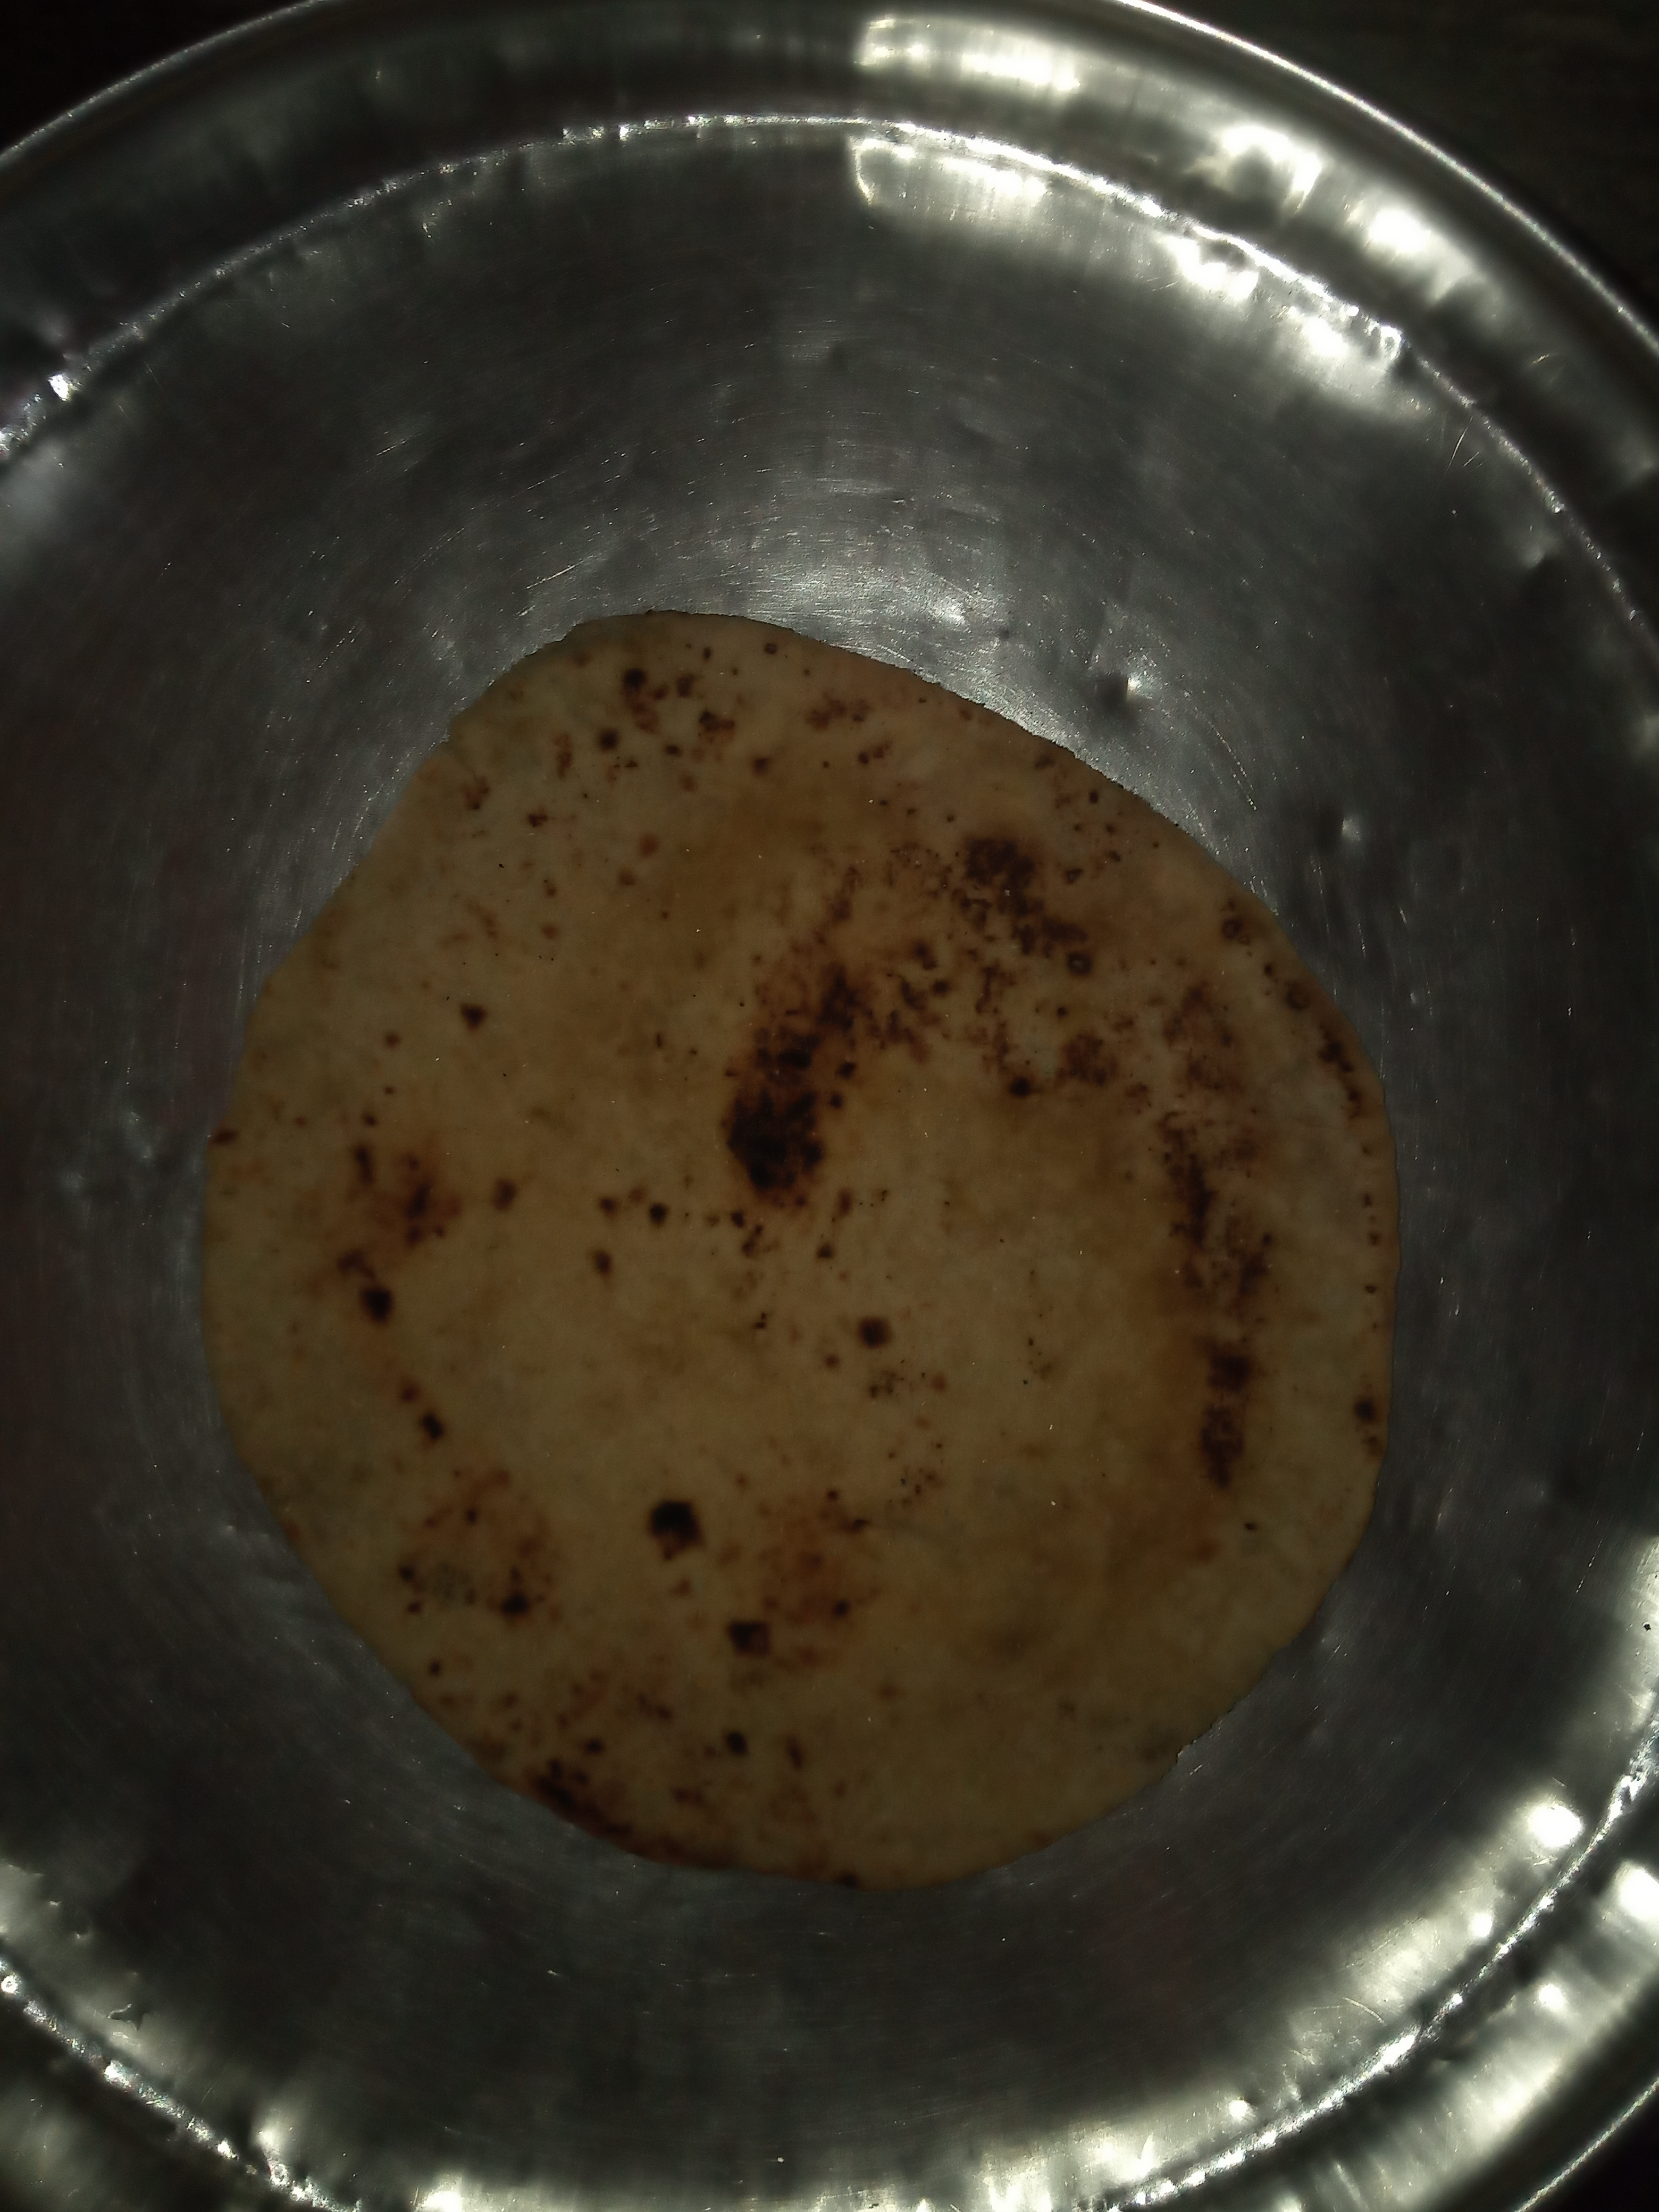food: (181, 594, 1413, 1911)
